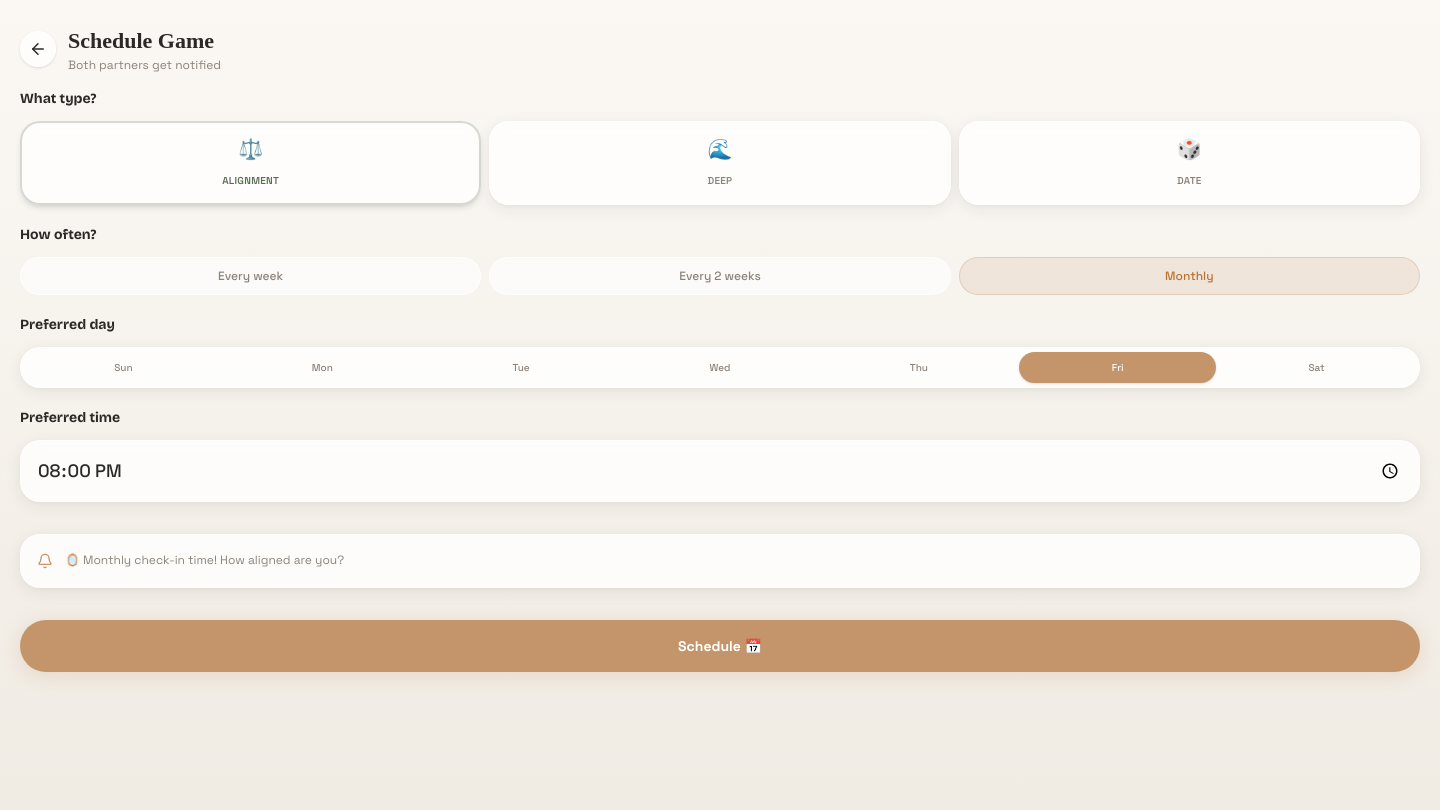
it: GameScheduleSettings › shows "Scheduled!" after save
This screenshot has width=1440, height=810.
What coordinates should you click on to do the following:
click the button "Schedule 📅"
I would click on:
 (720, 646)
Its box is [20,620,1420,672].
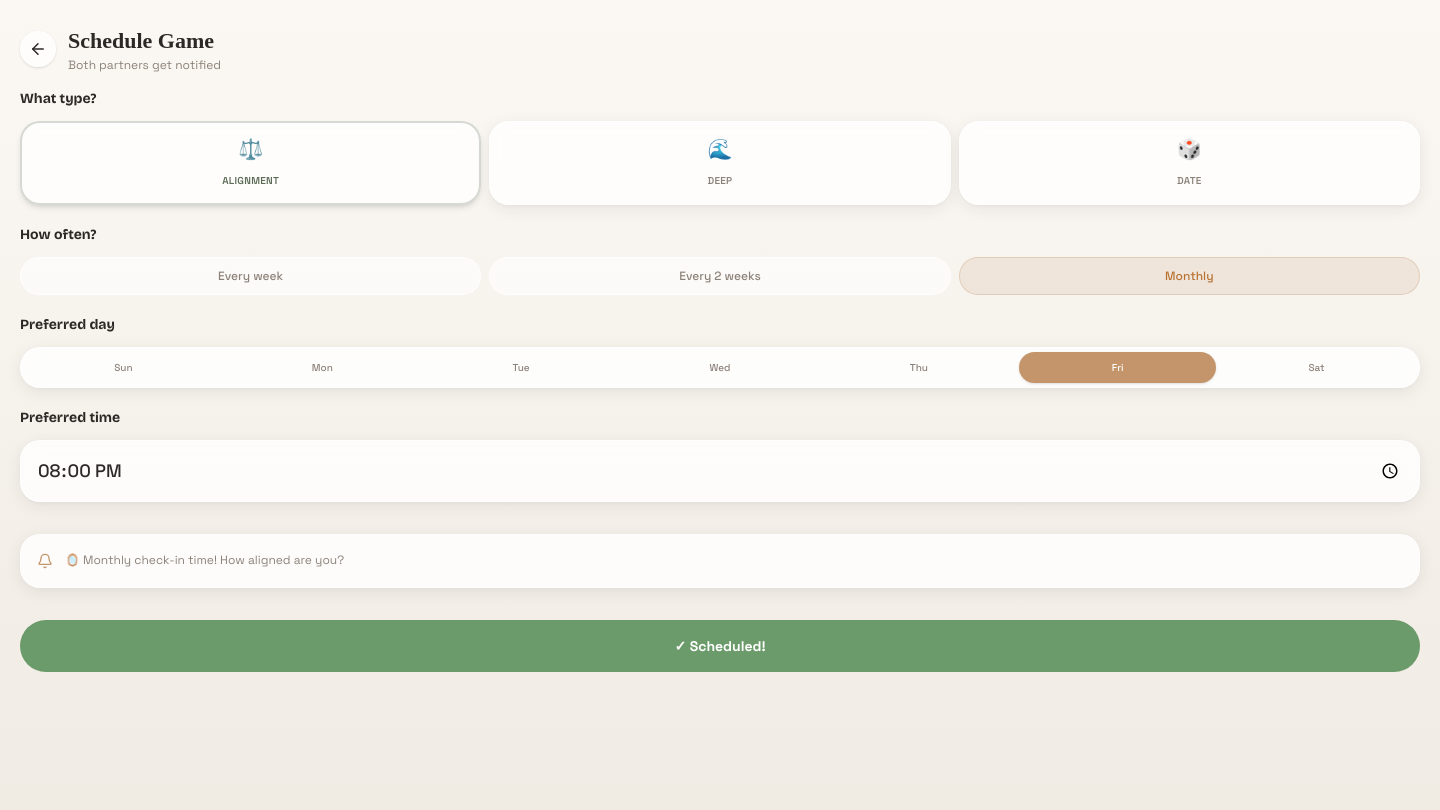
Expected: the button "✓ Scheduled!" is shown, [20,620,1420,672]
